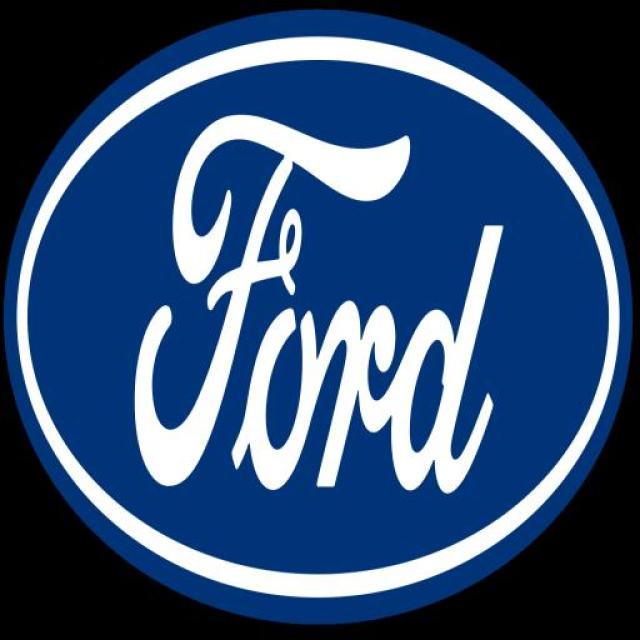Ford: (0, 13, 640, 638)
